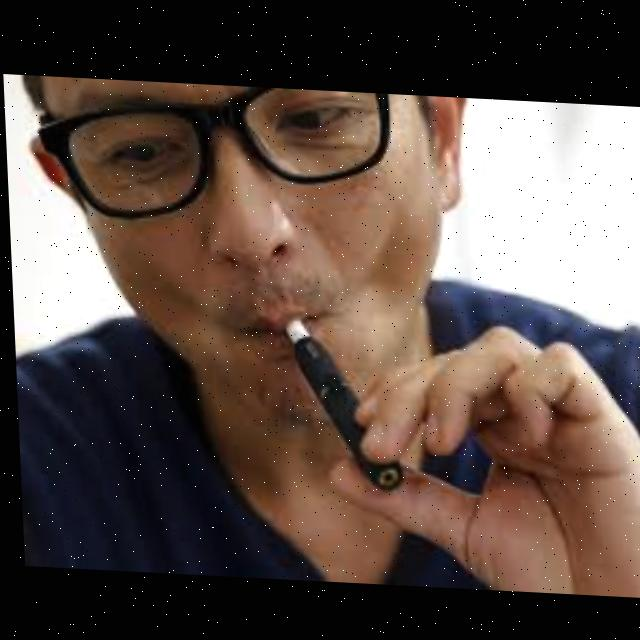vape: (283, 313, 402, 492)
